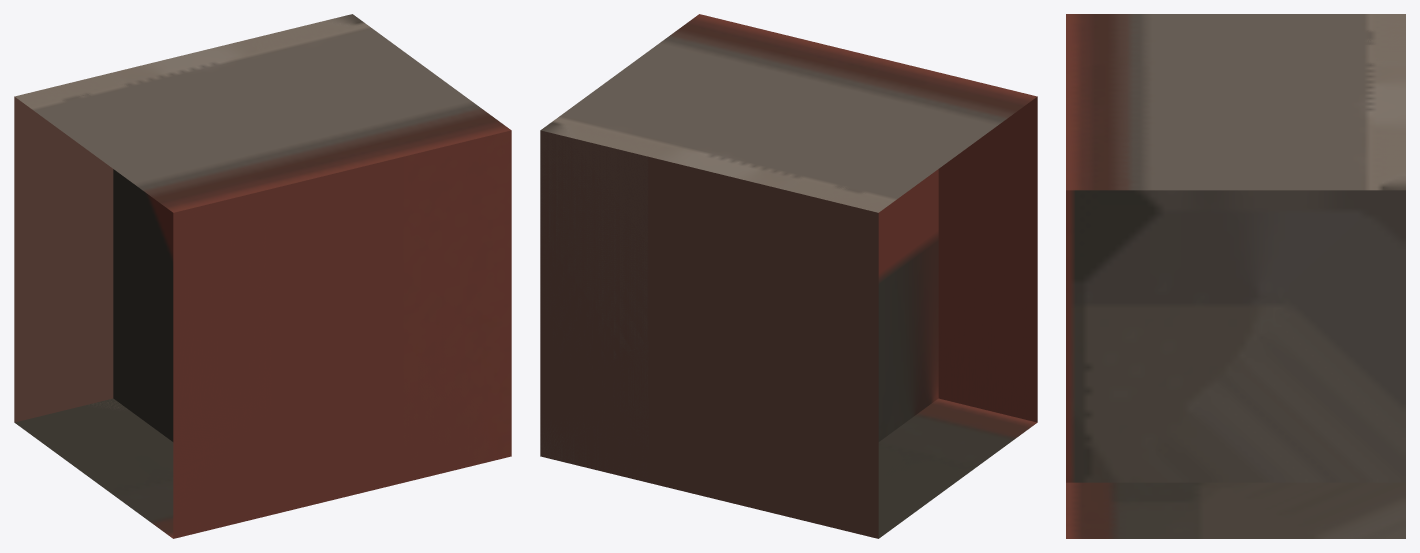
Rendered from section-22.obj.
3 views of the same model, side by side, from view 1: azimuth 30°, elevation 25°; view 2: azimuth 150°, elevation 25°; view 3: azimuth 270°, elevation 25° (orthographic). The views are drawn at different scales.
Bounding box in the file's own units: 1 × 0.9215 × 0.8142.
